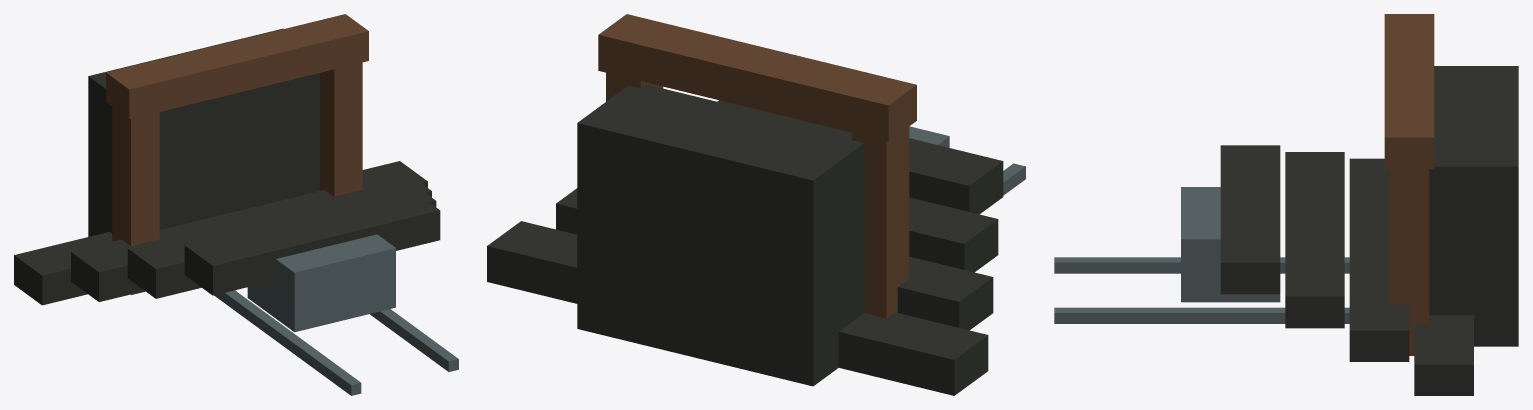
The model's file is custom-imp-coalmine.glb.
The picture shows the model from 3 angles, left to right: view 1: azimuth 30°, elevation 25°; view 2: azimuth 150°, elevation 25°; view 3: azimuth 270°, elevation 25°; orthographic projection. The views are drawn at different scales.
Parts seen in each view (by area): view 1: custom-imp-coalmine; view 2: custom-imp-coalmine; view 3: custom-imp-coalmine.
Boxes of the visible parts, left/top/right/bottom form: custom-imp-coalmine: left=14, top=14, right=458, bottom=395; custom-imp-coalmine: left=487, top=14, right=1025, bottom=395; custom-imp-coalmine: left=1054, top=14, right=1518, bottom=395.
Size of the model in its own units: 1 by 0.5158 by 0.9842.
